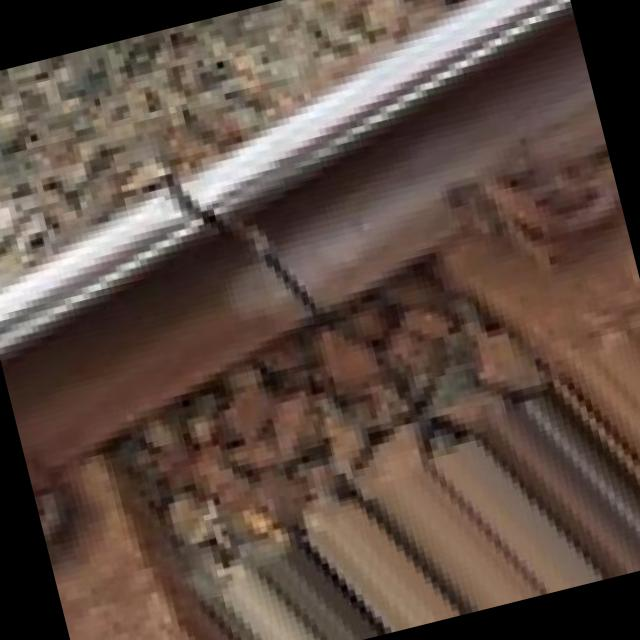defective: (0, 0, 561, 544)
